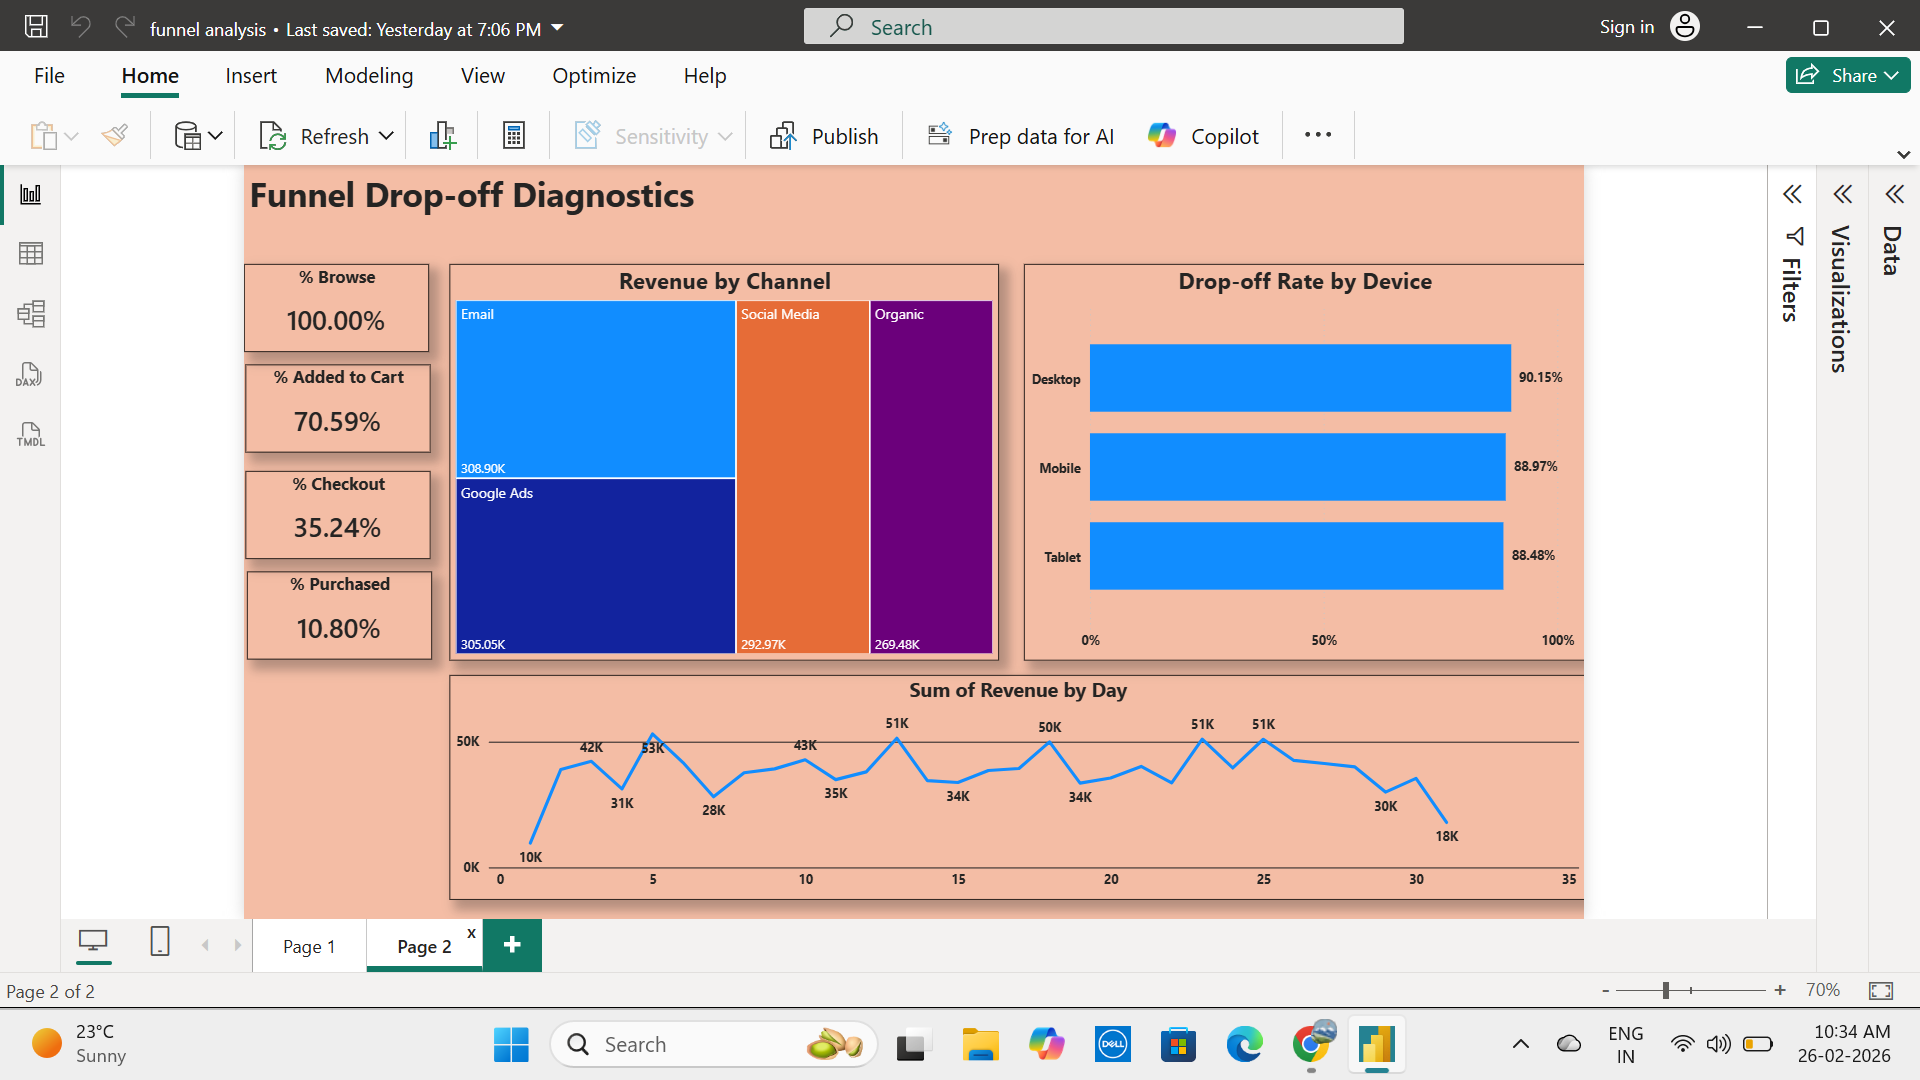

This screenshot's page, from the dashboard's own definition file:
{"tool":"powerbi","page":{"name":"Page 2","canvas":[1280,720],"ordinal":1},"visuals":[{"type":"cardVisual","title":"%  Browse","fields":{"Data":["funnel_analysis_data.p_browse"]},"box":[0,93.8,176.6,84.3],"z":0},{"type":"textbox","box":[0,0,577.4,81.1],"z":1},{"type":"cardVisual","title":"%  Added to Cart","fields":{"Data":["funnel_analysis_data.p_atc"]},"box":[1.6,190.9,176.6,84.3],"z":2},{"type":"cardVisual","title":"% Checkout","fields":{"Data":["funnel_analysis_data.p_checkout"]},"box":[1.6,292.7,176.6,84.3],"z":3},{"type":"cardVisual","title":"% Purchased","fields":{"Data":["funnel_analysis_data.p_purchase"]},"box":[3.2,388.1,176.6,84.3],"z":4},{"type":"treemap","title":"Revenue by Channel","fields":{"Group":["funnel_analysis_data.Channel"],"Values":["Sum(funnel_analysis_data.Revenue)"]},"box":[195.6,93.8,524.9,378.6],"z":5},{"type":"barChart","fields":{"Category":["funnel_analysis_data.Device"],"Y":["funnel_analysis_data.Drop-off Rate"]},"box":[744.4,93.8,536,378.6],"z":6},{"type":"lineChart","fields":{"Category":["funnel_analysis_data.Date.Variation.Date Hierarchy.Day"],"Y":["Sum(funnel_analysis_data.Revenue)"]},"box":[195.6,486.7,1084.8,214.7],"z":7}]}

Visuals, with their boxes on the page's 1280x720 design canvas (x1, y1, x2, y2). These are canvas units, not pixel positions in the 1920x1080 screenshot, which may show the page scaled, cropped or inside an application window:
"%  Browse" cardVisual: <bbox>0, 94, 177, 178</bbox>
textbox: <bbox>0, 0, 577, 81</bbox>
"%  Added to Cart" cardVisual: <bbox>2, 191, 178, 275</bbox>
"% Checkout" cardVisual: <bbox>2, 293, 178, 377</bbox>
"% Purchased" cardVisual: <bbox>3, 388, 180, 472</bbox>
"Revenue by Channel" treemap: <bbox>196, 94, 720, 472</bbox>
barChart - funnel_analysis_data.Device x funnel_analysis_data.Drop-off Rate: <bbox>744, 94, 1280, 472</bbox>
lineChart - funnel_analysis_data.Date.Variation.Date Hierarchy.Day x Sum(funnel_analysis_data.Revenue): <bbox>196, 487, 1280, 701</bbox>
